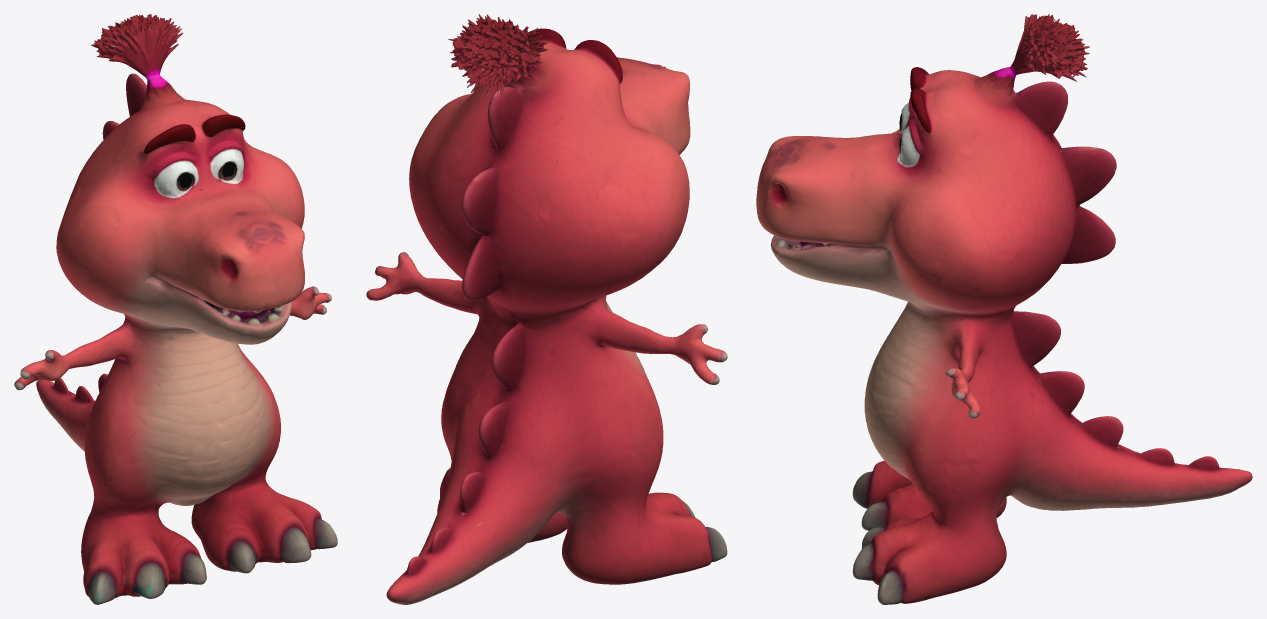
Rendered from jangjang.glb.
3 views of the same model, side by side, from view 1: azimuth 30°, elevation 25°; view 2: azimuth 150°, elevation 25°; view 3: azimuth 270°, elevation 25° (orthographic). The views are drawn at different scales.
Parts seen in each view (by area): view 1: Mesh_0; view 2: Mesh_0; view 3: Mesh_0.
Boxes of the visible parts, left/top/right/bottom form: Mesh_0: left=14, top=14, right=337, bottom=604; Mesh_0: left=366, top=14, right=727, bottom=604; Mesh_0: left=756, top=14, right=1252, bottom=604.
Size of the model in its own units: 0.3251 by 0.5 by 0.4287.
1 material, 1 textured.
